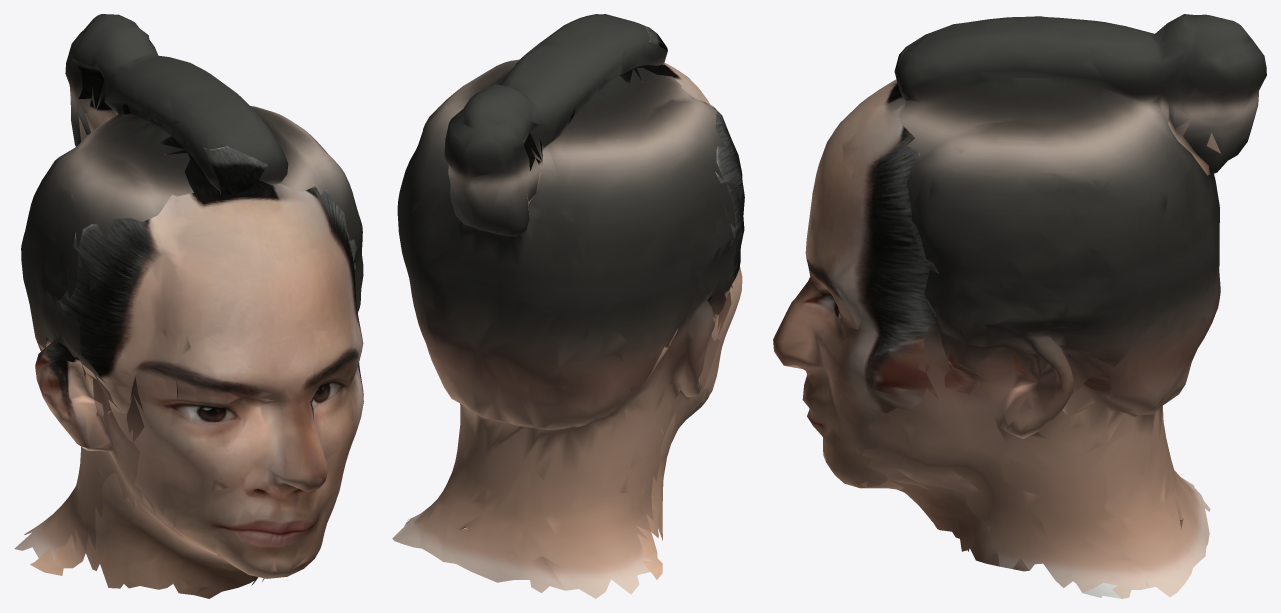
The model's file is head_chonmage.glb.
The picture shows the model from 3 angles, left to right: view 1: azimuth 30°, elevation 25°; view 2: azimuth 150°, elevation 25°; view 3: azimuth 270°, elevation 25°; orthographic projection. The views are drawn at different scales.
Parts seen in each view (by area): view 1: geometry_0; view 2: geometry_0; view 3: geometry_0.
Boxes of the visible parts, x1,y1,x2,y2 form: geometry_0: (14, 14, 363, 598); geometry_0: (392, 14, 744, 598); geometry_0: (773, 14, 1266, 598).
Size of the model in its own units: 0.6365 by 1 by 0.8646.
1 material, 1 textured.
